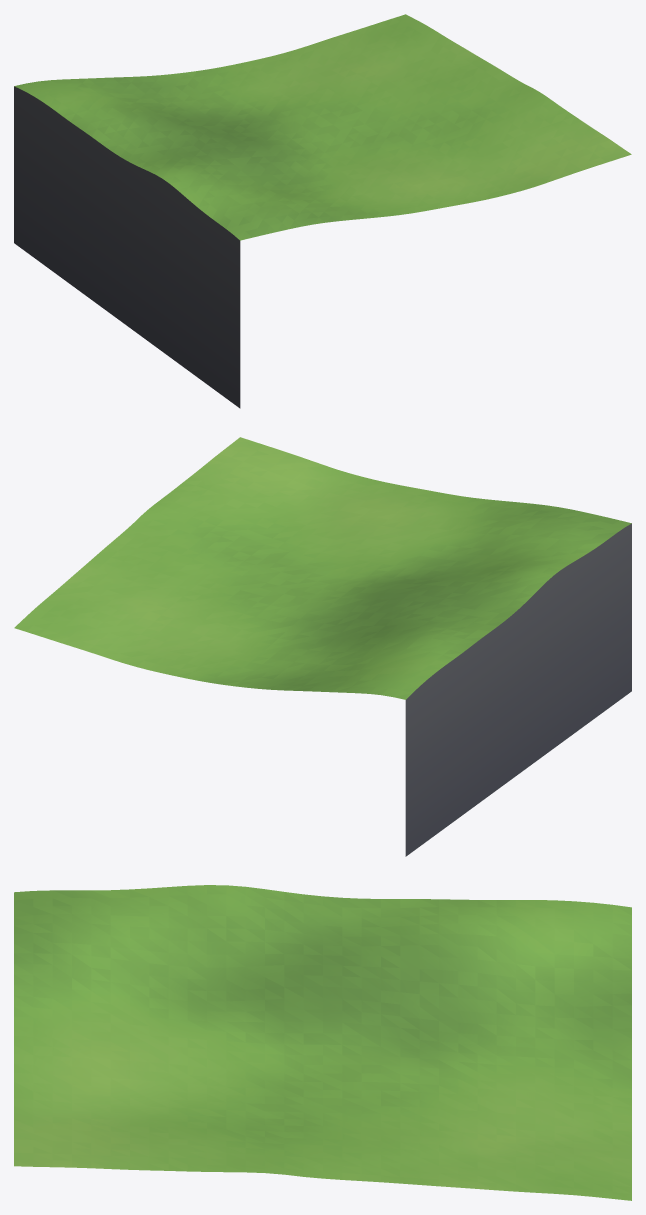
Rendered from terrain_r1_c0.glb.
3 views of the same model, one above another, from view 1: azimuth 30°, elevation 25°; view 2: azimuth 150°, elevation 25°; view 3: azimuth 270°, elevation 25° (orthographic). The views are drawn at different scales.
Parts seen in each view (by area): view 1: terrain_r1_c0; view 2: terrain_r1_c0; view 3: terrain_r1_c0.
Boxes of the visible parts, x1=… form: terrain_r1_c0: x1=14, y1=14, x2=631, y2=408; terrain_r1_c0: x1=14, y1=437, x2=631, y2=856; terrain_r1_c0: x1=14, y1=885, x2=631, y2=1200.
Size of the model in its own units: 128 by 54.1 by 128.
1 material, 1 textured.
